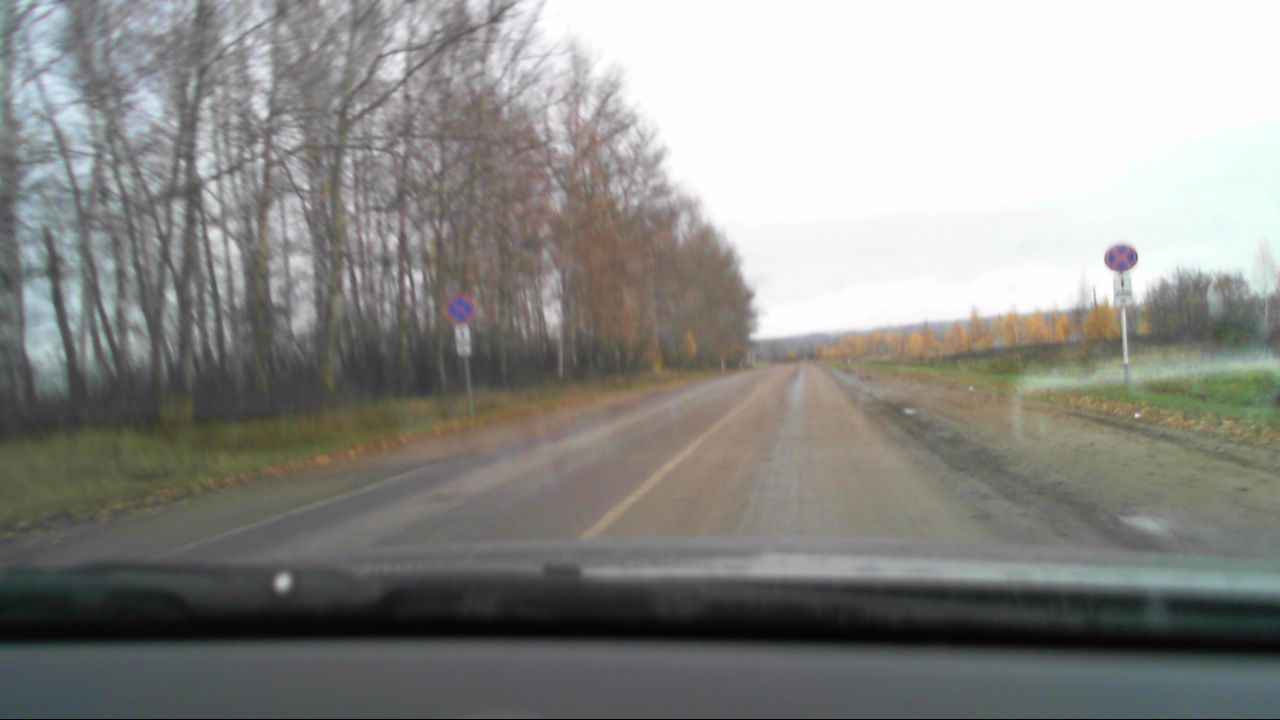No Parking: (1105, 242, 1138, 271)
